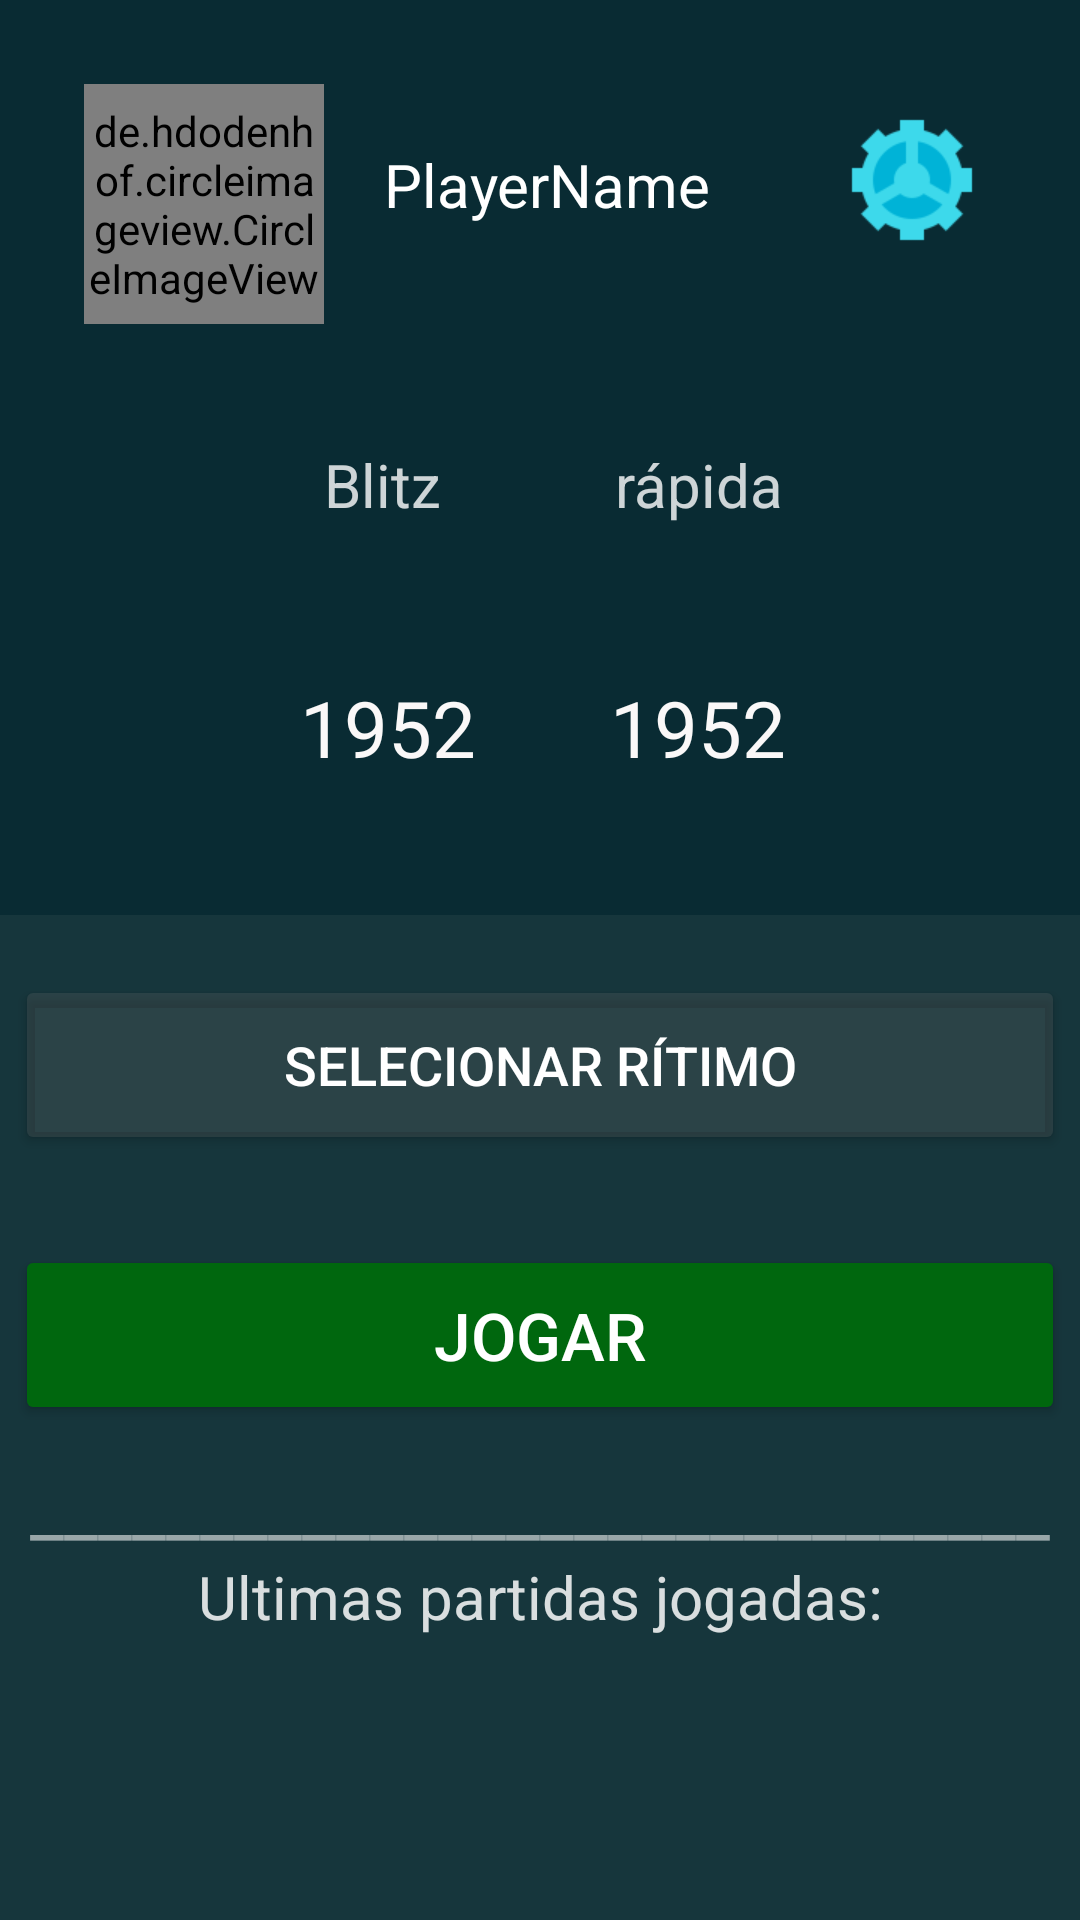

Screen size 1080w x 1920h. Icon name, then its center in pixels as [x,y]:
config: [912,180]
